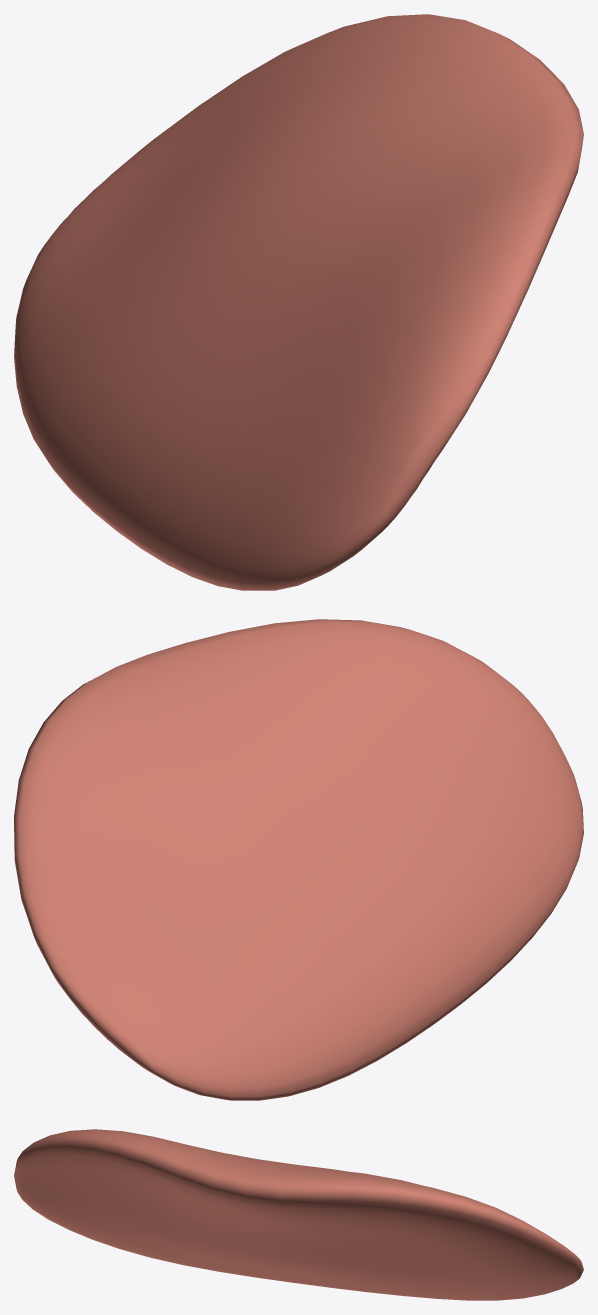
3 views of the same model, one above another, from view 1: azimuth 30°, elevation 25°; view 2: azimuth 150°, elevation 25°; view 3: azimuth 270°, elevation 25° (orthographic). The views are drawn at different scales.
Parts seen in each view (by area): view 1: 右侧臀大肌转子囊; view 2: 右侧臀大肌转子囊; view 3: 右侧臀大肌转子囊.
Part boxes in pixels (<box>): 右侧臀大肌转子囊: <box>14,14,583,590</box>; 右侧臀大肌转子囊: <box>14,619,583,1100</box>; 右侧臀大肌转子囊: <box>14,1129,583,1300</box>.
Bounding box in the file's own units: 0.0257 × 0.0199 × 0.0442.
